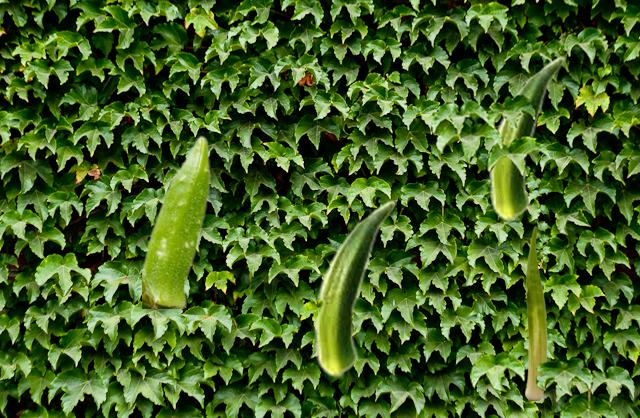okra: (313, 200, 395, 377), (488, 56, 564, 221), (142, 134, 210, 307), (525, 226, 546, 399)
